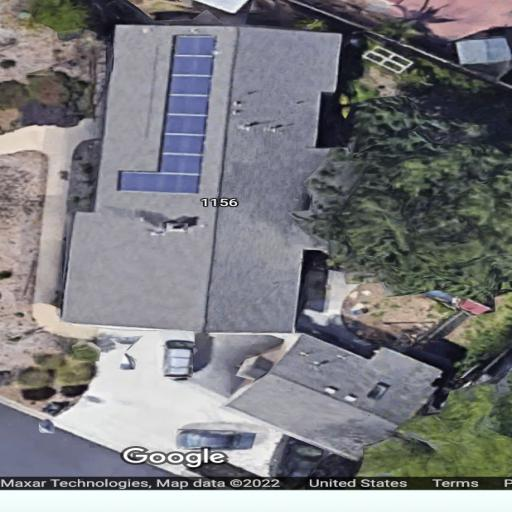Slope-Roof: (56, 27, 343, 336)
